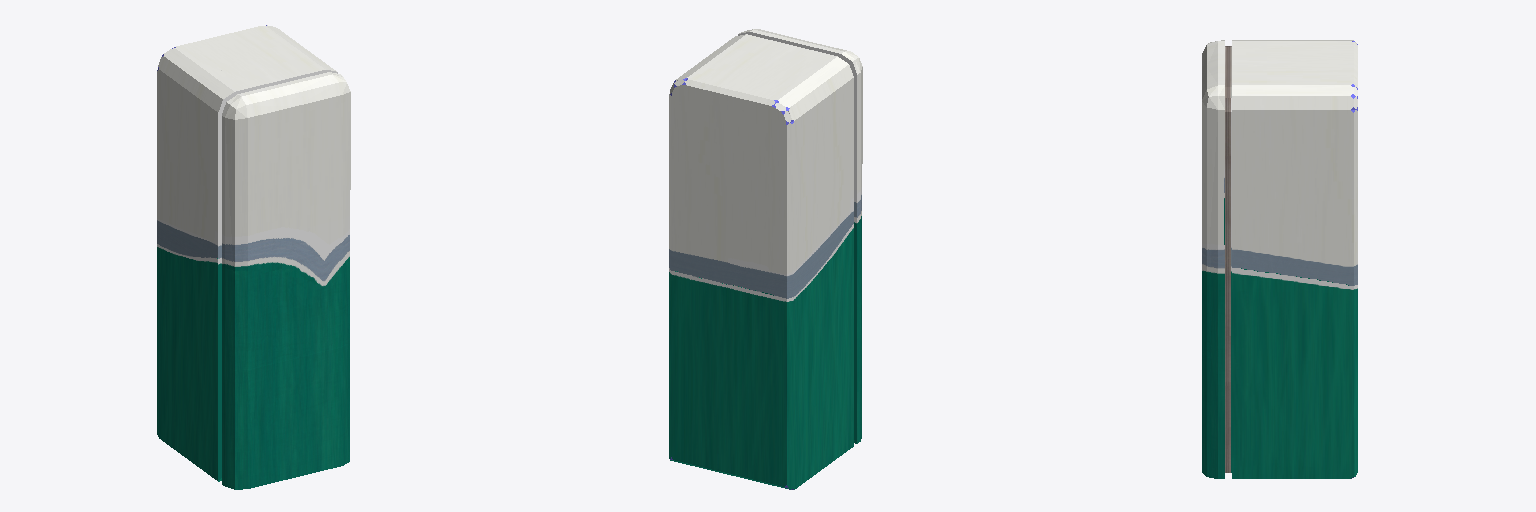
3 views of the same model, side by side, from view 1: azimuth 30°, elevation 25°; view 2: azimuth 150°, elevation 25°; view 3: azimuth 270°, elevation 25° (orthographic).
Parts seen in each view (by area): view 1: Cube; view 2: Cube; view 3: Cube.
Part boxes in pixels (bbox=[...]): Cube: bbox=[157, 25, 350, 489]; Cube: bbox=[669, 29, 862, 489]; Cube: bbox=[1202, 40, 1357, 478].
Size of the model in its own units: 0.6 by 1.79 by 0.6572.
2 materials, 2 textured.